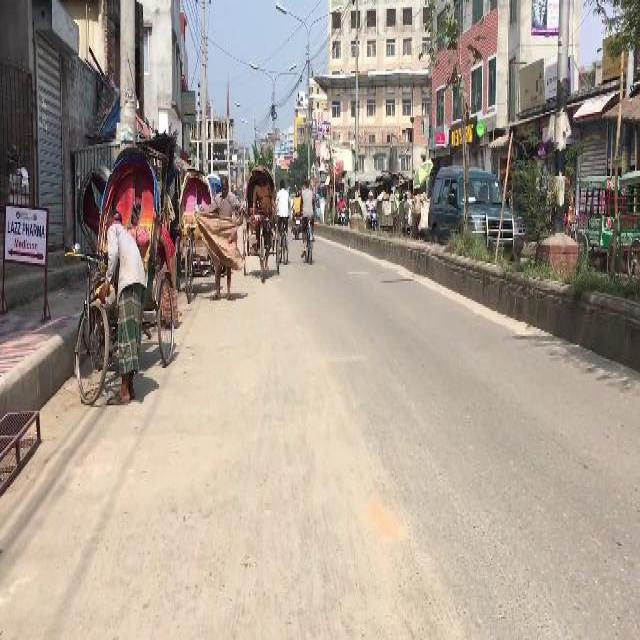bike: (302, 182, 317, 262), (278, 180, 291, 263), (291, 187, 301, 238), (366, 190, 377, 229), (339, 192, 348, 222)
vehicle: (65, 142, 175, 400), (428, 166, 525, 264), (240, 166, 280, 280), (178, 170, 211, 305)
